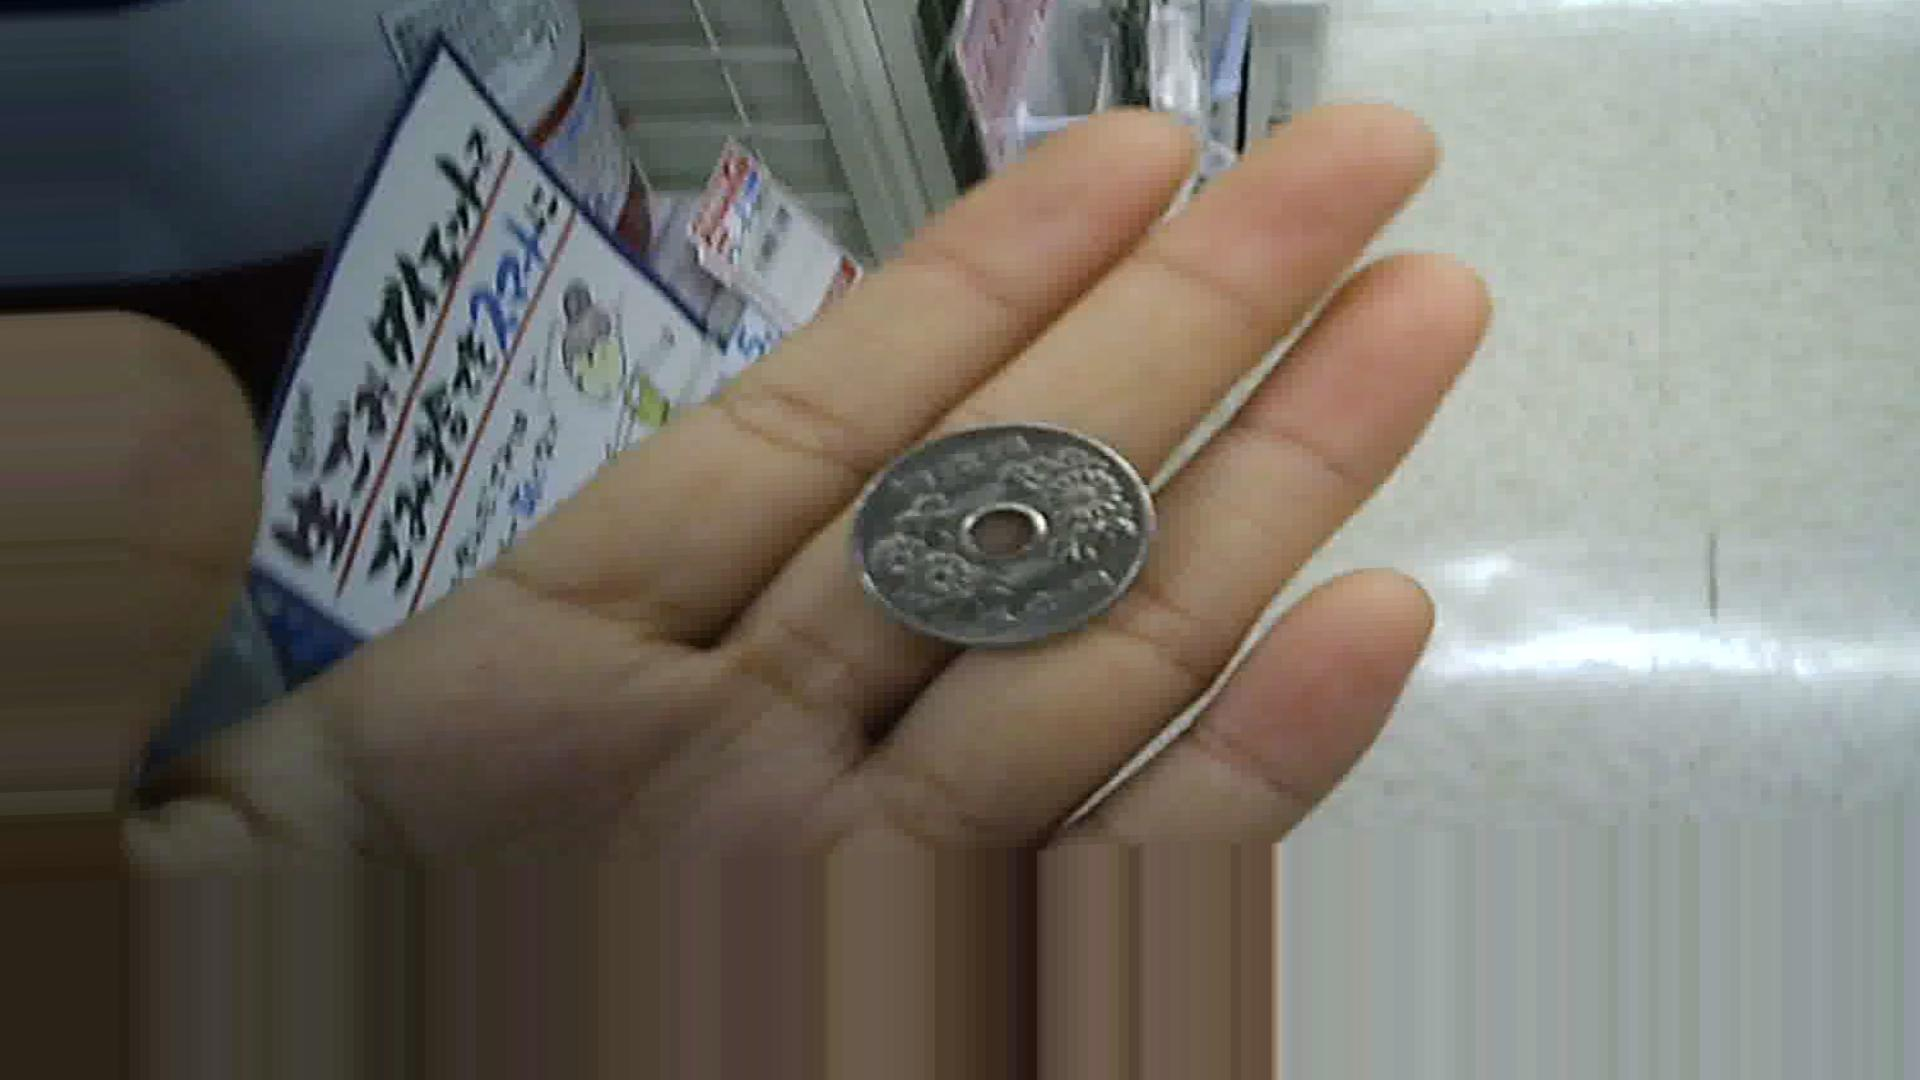50 Yen: (861, 410, 1159, 666)
